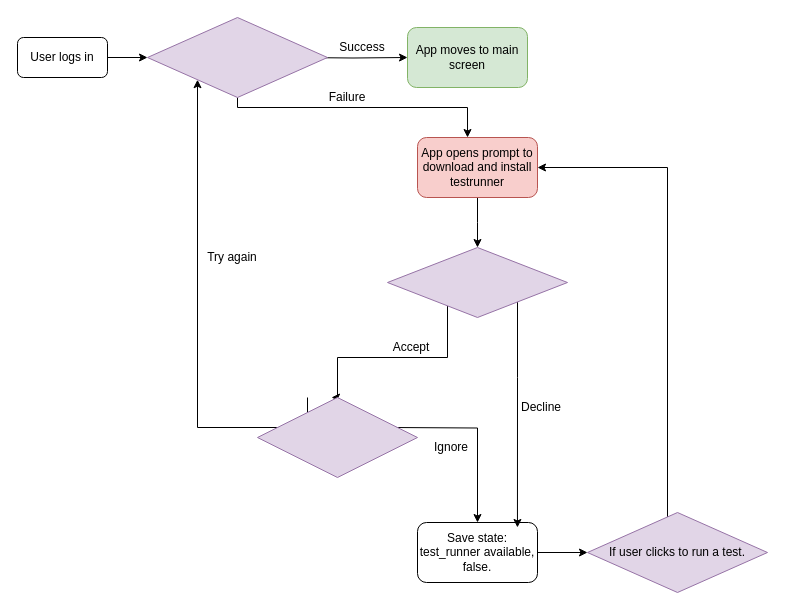
This 785x610 diagram has some shape labels left out. Here are the shapes that lost their labels. From the top down, the box of each, then its label:
(146, 16, 328, 98): App tries to run test runner with test param
(386, 246, 568, 318): User accepts or declines
(256, 396, 418, 478): Prompt asking to try again or ignore.
